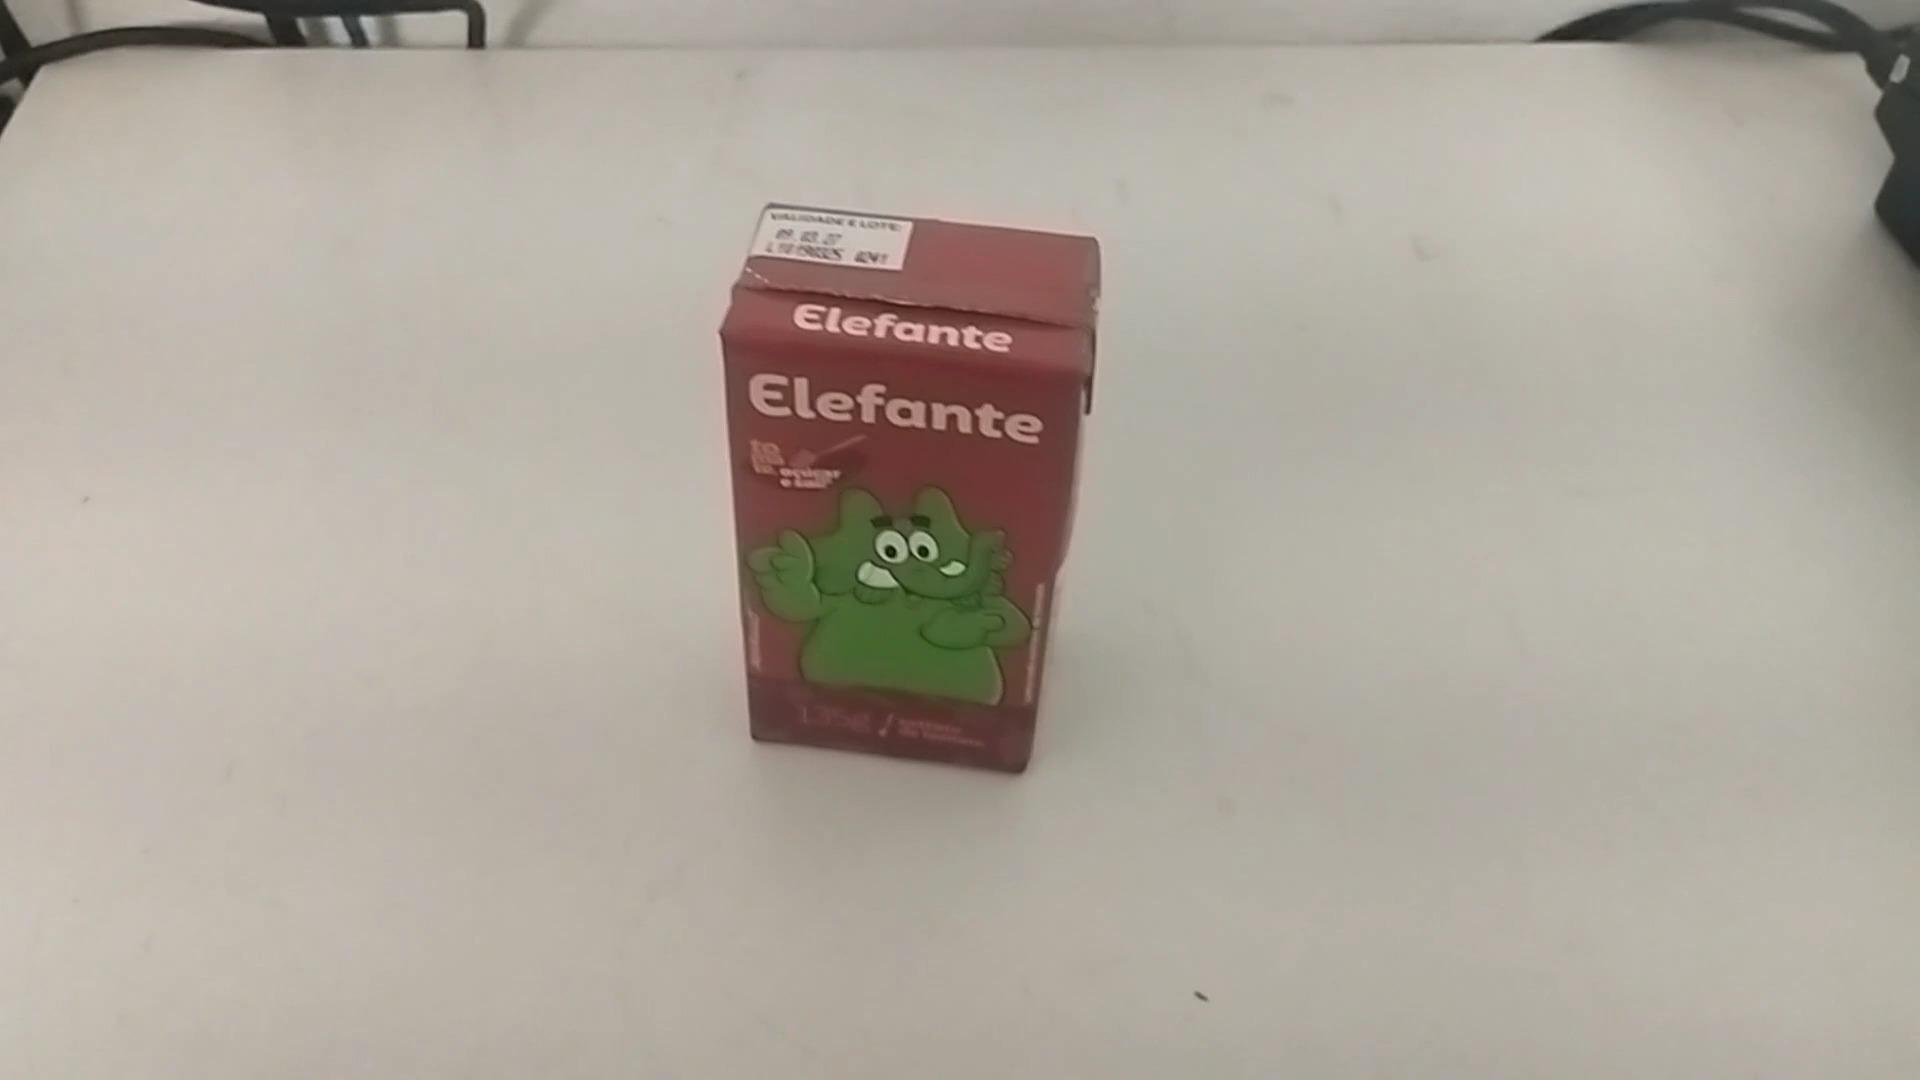tomate: (713, 193, 1125, 777)
